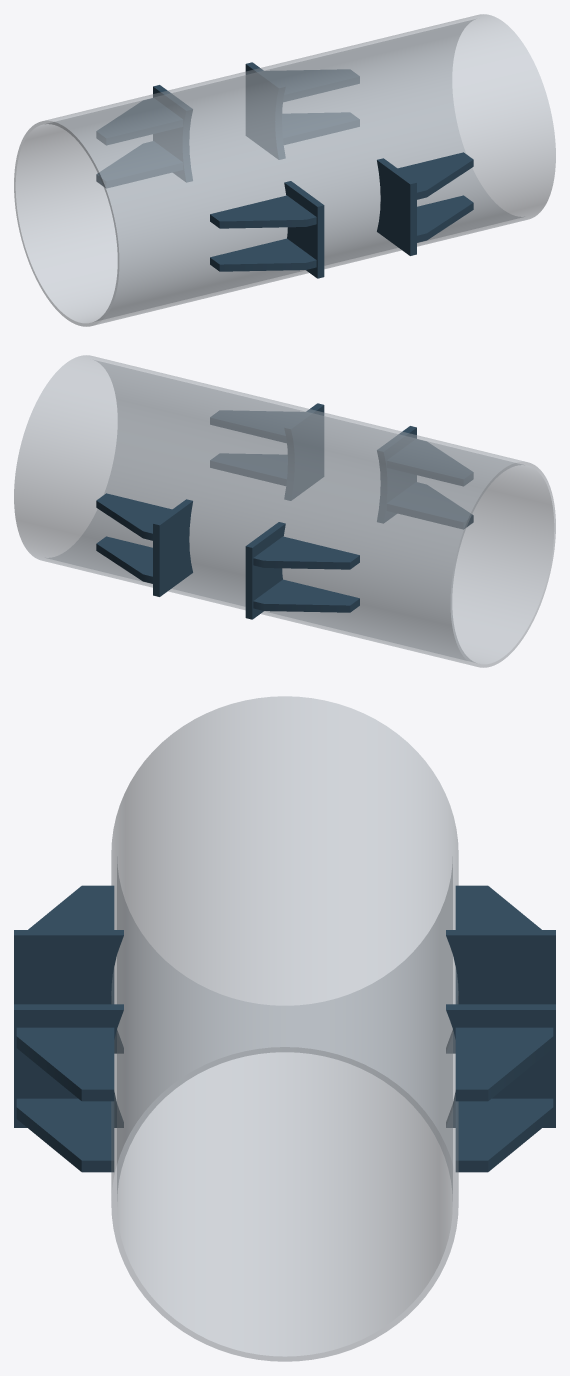
File: TS-660.00.00-13-opora-dn426.glb
The picture shows the model from 3 angles, top to bottom: view 1: azimuth 30°, elevation 25°; view 2: azimuth 150°, elevation 25°; view 3: azimuth 270°, elevation 25°; orthographic projection. The views are drawn at different scales.
Parts seen in each view (by area): view 1: truba, upor_1, upor_7, upor_6, upor_5, upor_11, upor_12, upor_4, upor_9, upor_2, upor_10, upor_8 (+1 smaller); view 2: truba, upor_7, upor_1, upor_11, upor_12, upor_6, upor_5, upor_10, upor_2, upor_9, upor_4, upor_3 (+1 smaller); view 3: truba, upor_4, upor_10, upor_2, upor_9, upor_3, upor_8, upor_1, upor_7, upor_5, upor_12.
Boxes of the visible parts, bbox=[...] form: truba: bbox=[14, 14, 555, 326]; upor_1: bbox=[377, 158, 416, 255]; upor_7: bbox=[245, 62, 285, 159]; upor_6: bbox=[210, 238, 316, 271]; upor_5: bbox=[210, 195, 316, 228]; upor_11: bbox=[96, 141, 182, 188]; upor_12: bbox=[96, 98, 182, 144]; upor_4: bbox=[284, 181, 324, 278]; upor_9: bbox=[265, 69, 359, 101]; upor_2: bbox=[398, 152, 473, 199]; upor_10: bbox=[153, 85, 192, 182]; upor_8: bbox=[282, 112, 359, 144]; truba: bbox=[14, 355, 555, 667]; upor_7: bbox=[153, 499, 192, 596]; upor_1: bbox=[284, 403, 324, 500]; upor_11: bbox=[253, 579, 359, 612]; upor_12: bbox=[253, 536, 359, 569]; upor_6: bbox=[387, 482, 473, 529]; upor_5: bbox=[387, 439, 473, 485]; upor_10: bbox=[245, 522, 285, 619]; upor_2: bbox=[210, 410, 304, 442]; upor_9: bbox=[96, 493, 171, 540]; upor_4: bbox=[377, 426, 416, 523]; upor_3: bbox=[210, 453, 287, 485]; truba: bbox=[111, 696, 458, 1361]; upor_4: bbox=[14, 930, 123, 1053]; upor_10: bbox=[446, 930, 555, 1053]; upor_2: bbox=[16, 1027, 114, 1101]; upor_9: bbox=[455, 1027, 553, 1101]; upor_3: bbox=[16, 1098, 114, 1172]; upor_8: bbox=[455, 1098, 553, 1172]; upor_1: bbox=[14, 1004, 123, 1127]; upor_7: bbox=[446, 1004, 555, 1127]; upor_5: bbox=[28, 885, 114, 929]; upor_12: bbox=[455, 885, 541, 929].
Size of the model in its own units: 1018 by 426 by 665.
